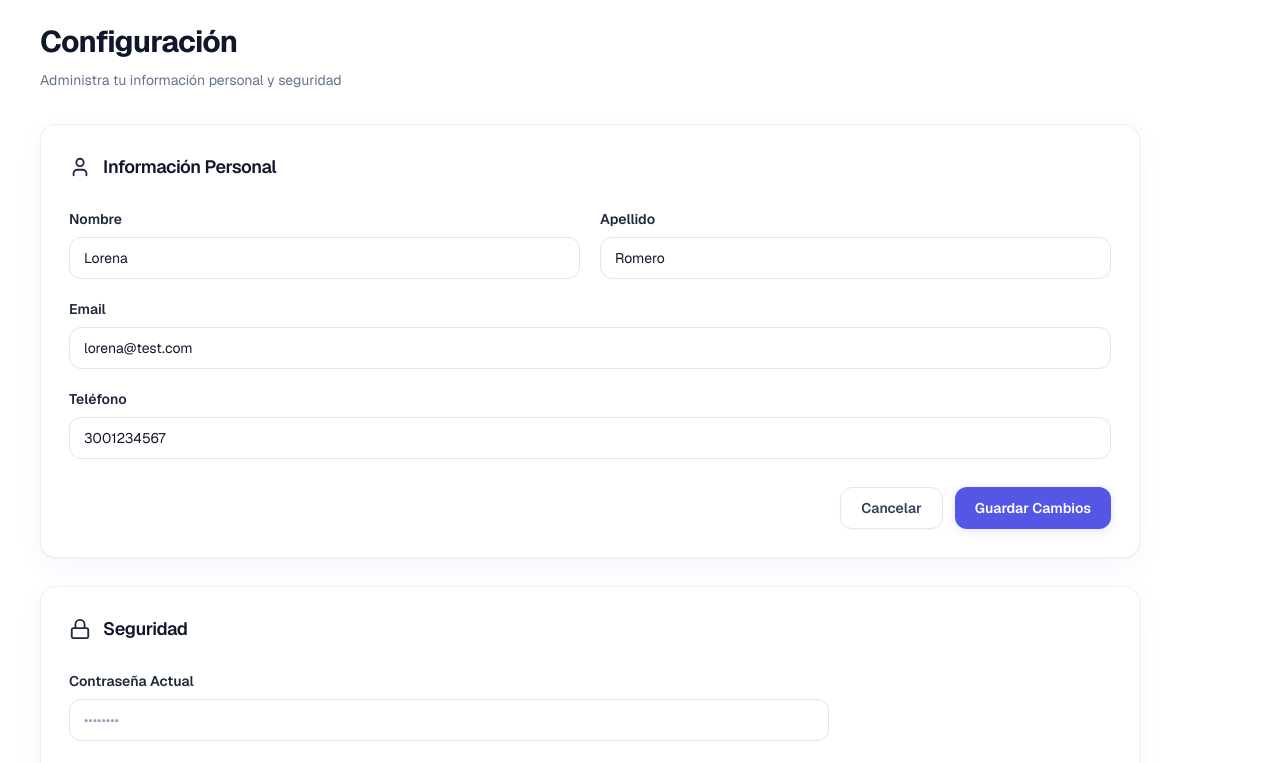
Test: ConfiguracionPage — información personal › limpia el mensaje de error al editar un campo
Click the button "Guardar Cambios".
click(1033, 508)  # box x1=955 y1=487 x2=1111 y2=529
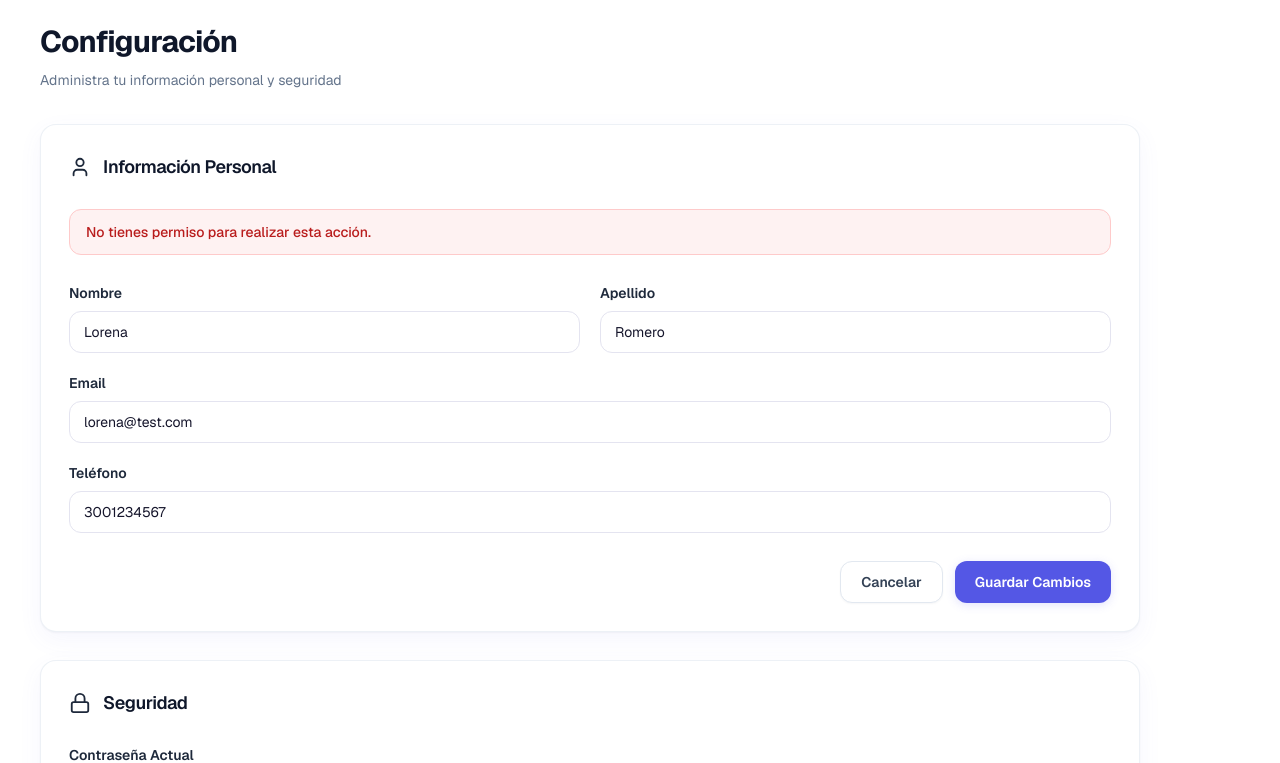
Result: the text "No tienes permiso para realizar esta acción." is shown at x1=69 y1=209 x2=1111 y2=255
Replace the text in the field labelled "Nombre" with "Lorena Isabel" at (324, 332), box x1=69 y1=311 x2=580 y2=353
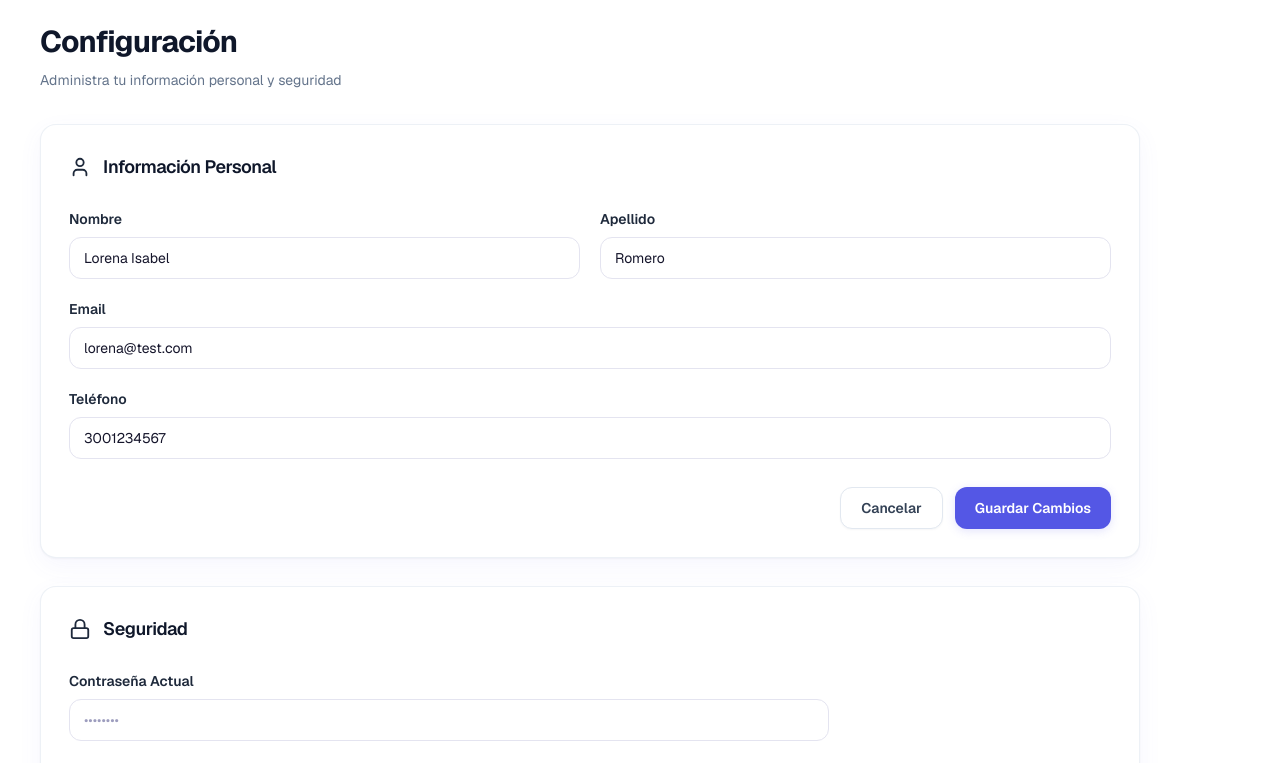
Result: the text "No tienes permiso para realizar esta acción." is gone
